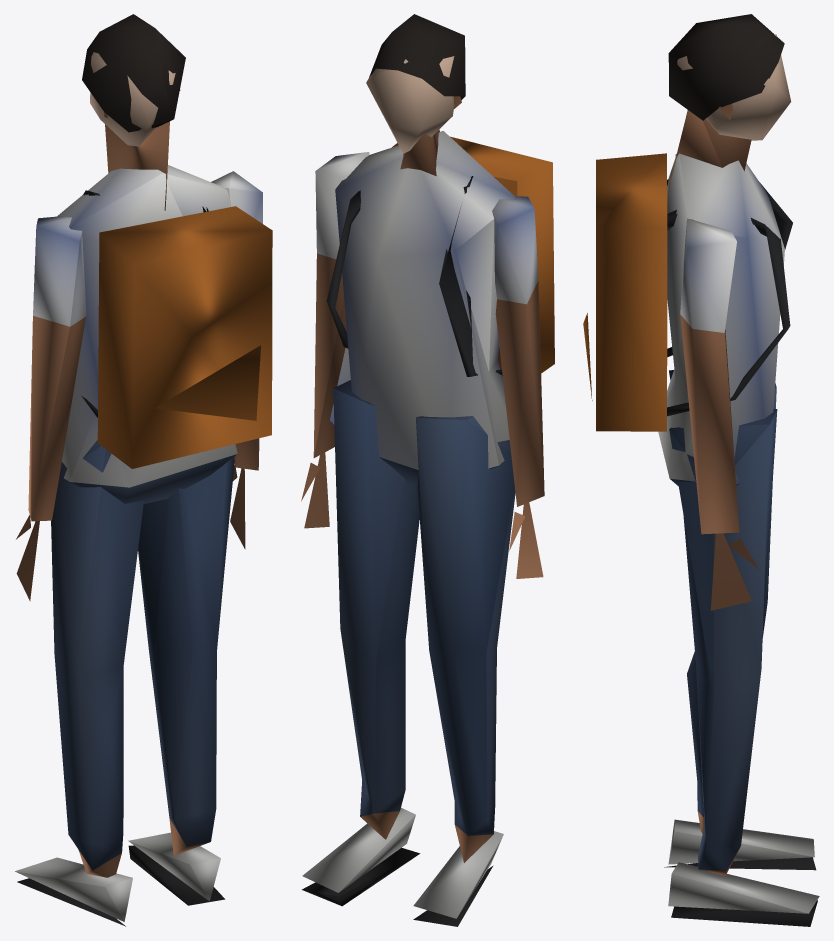
Rendered from crowd_backpack_lod1.glb.
3 renders of one model, left to right at view 1: azimuth 30°, elevation 25°; view 2: azimuth 150°, elevation 25°; view 3: azimuth 270°, elevation 25°, orthographic.
Visible parts, largest first — view 1: crowd_backpack_lod1; view 2: crowd_backpack_lod1; view 3: crowd_backpack_lod1.
Part boxes in pixels (left/top/right/bottom): crowd_backpack_lod1: left=15, top=14, right=272, bottom=926; crowd_backpack_lod1: left=301, top=14, right=554, bottom=926; crowd_backpack_lod1: left=583, top=14, right=819, bottom=926.
Bounding box in the file's own units: 0.4772 × 1.77 × 0.4344.
